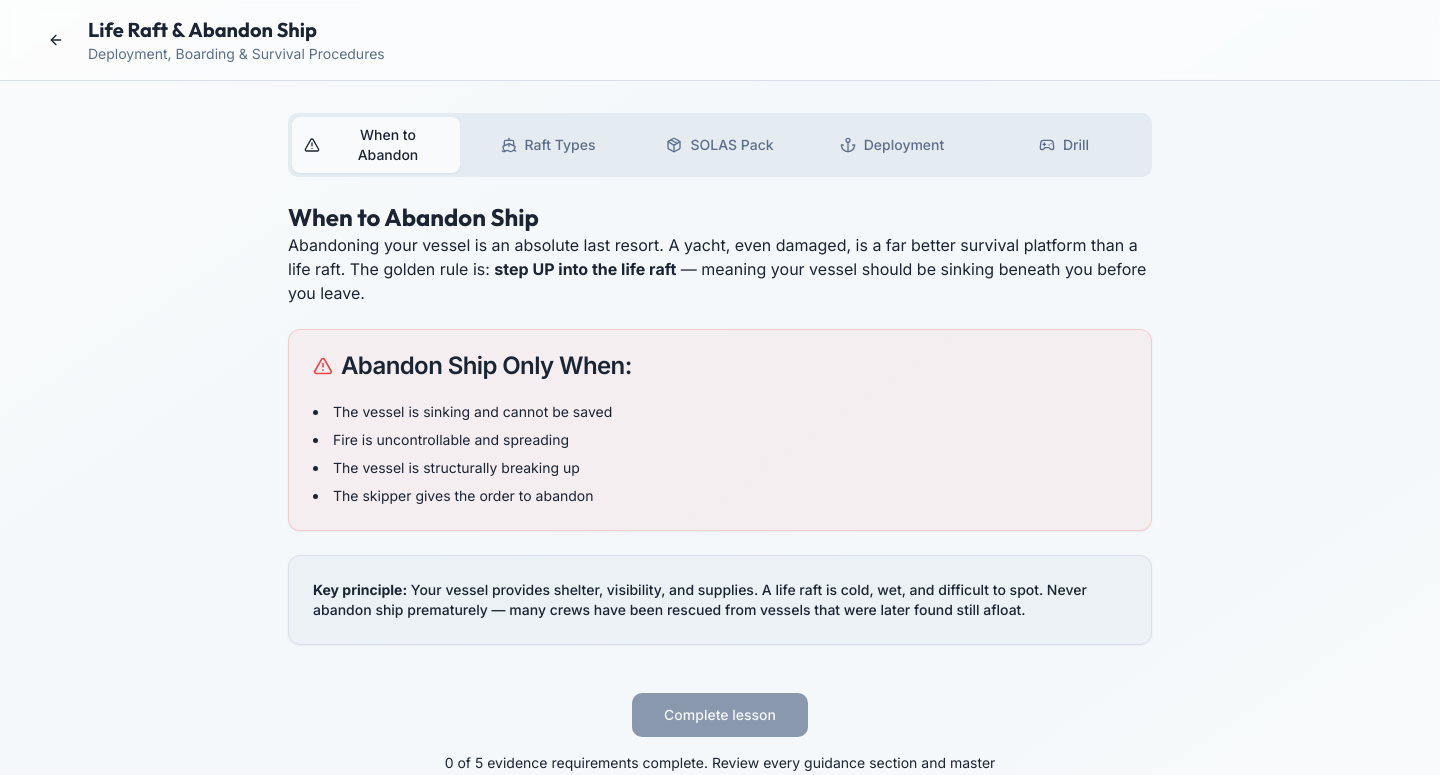
Test: LifeRaftTheory Page › should display life raft types when clicking the Raft Types tab
The width and height of the screenshot is (1440, 775).
Click the tab "Raft Types" at (548, 145), box [464,123,632,167]
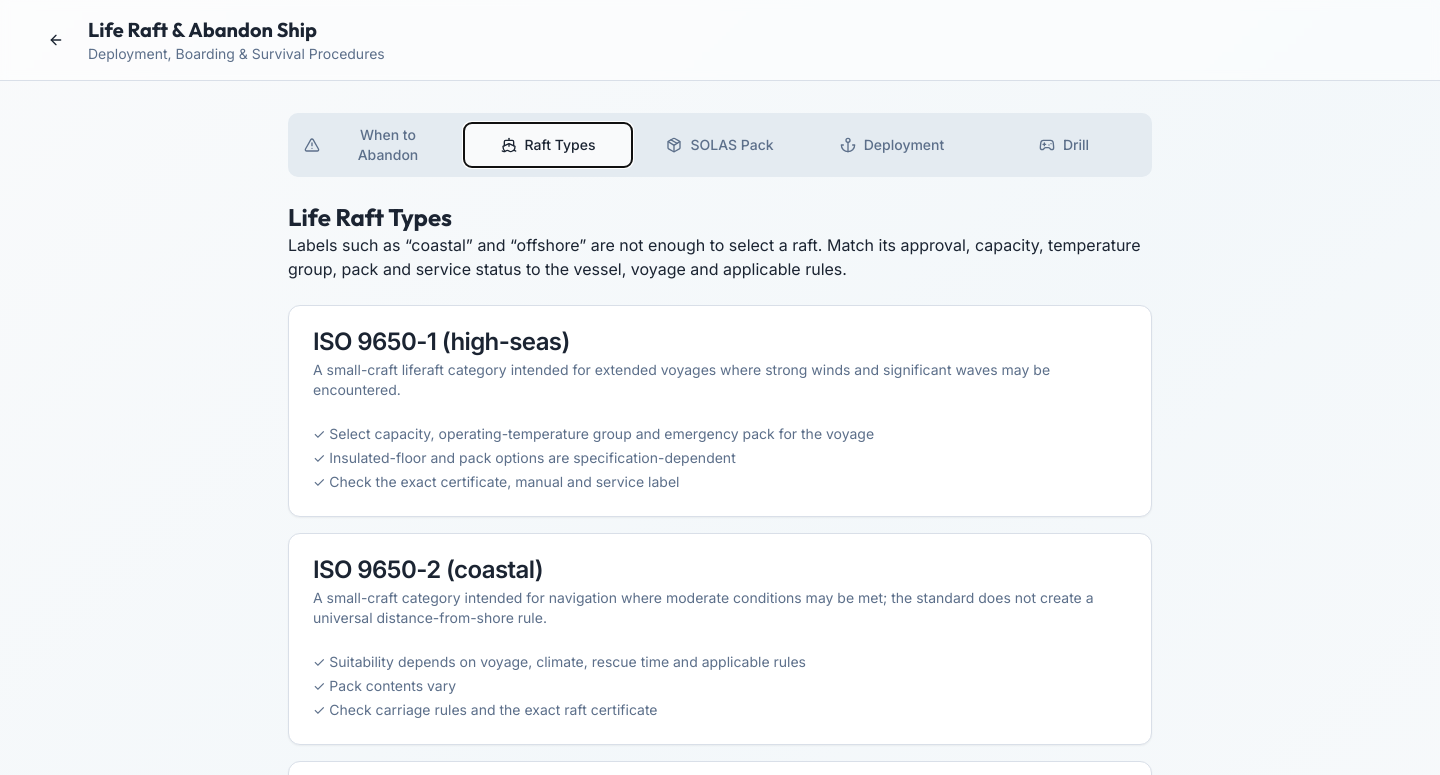
Expected: the heading "Life Raft Types" is shown, [288,202,452,232]
